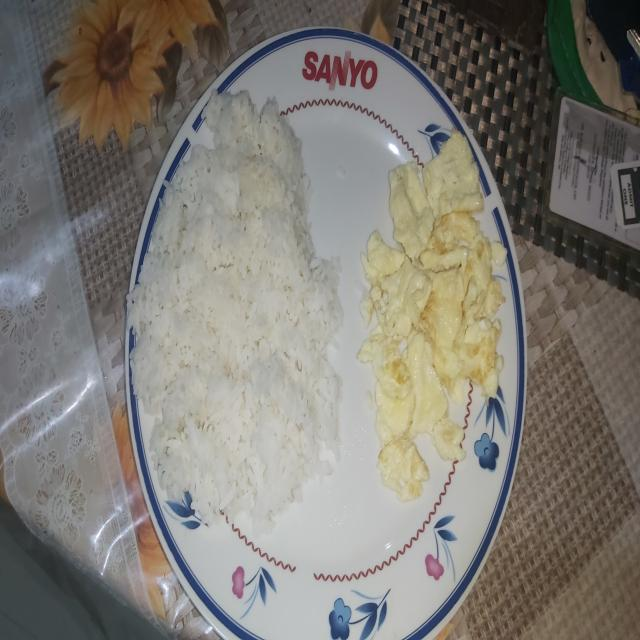Chicken -Chicken Inasal-: (132, 76, 333, 528)
